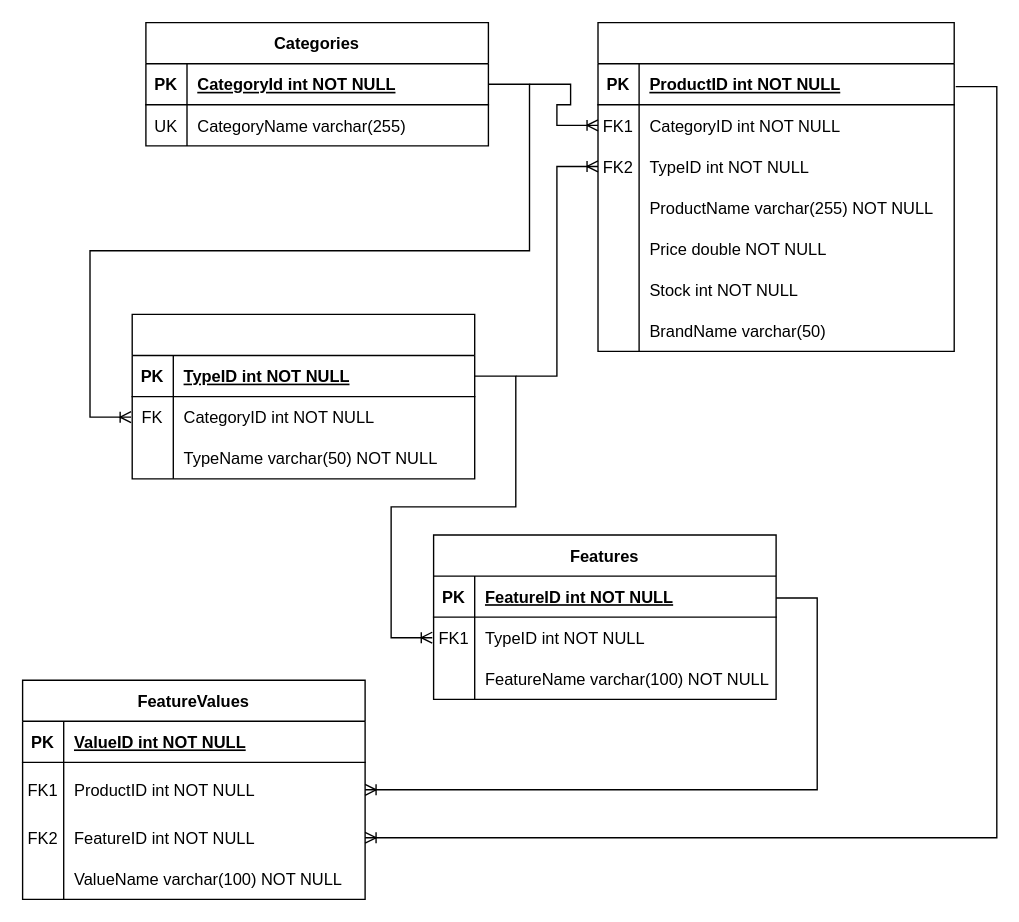
This 1019x922 diagram has some shape labels left out. Here are the shapes that lost their labels. From the top down, the box of each, then its label:
(597, 21, 954, 351): Products
(131, 313, 475, 479): ProductTypes
